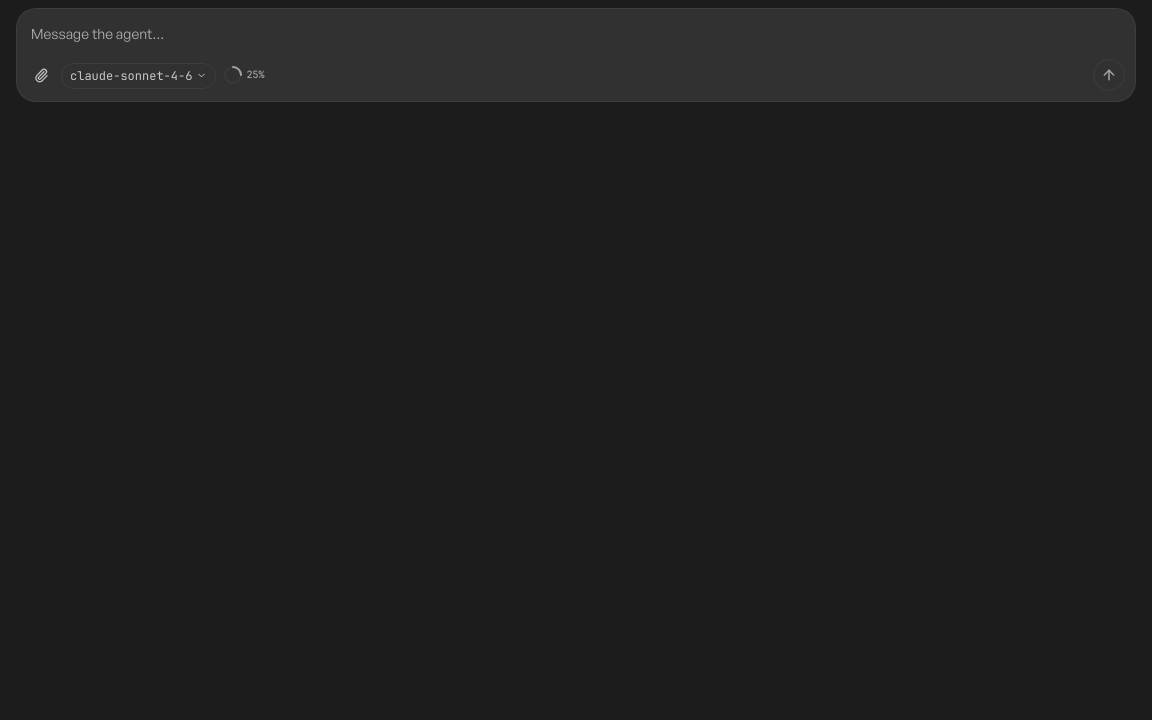
Composer › opens the context breakdown when the ring is clicked
Click the button named "Chat context: 25% used".
click(243, 75)  # box [222,66,264,84]
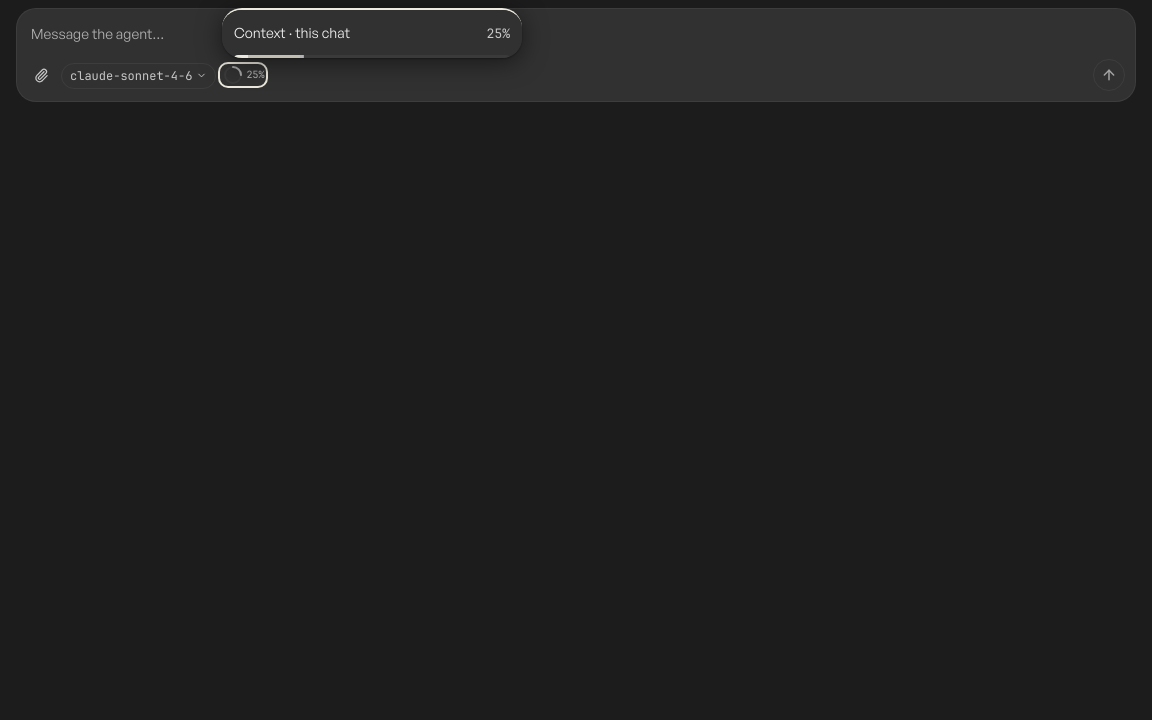
Now the dialog with test id "context-panel" is shown, box [222,8,522,58]
Now the button named "Chat context: 25% used" is expanded, box [222,66,264,84]
